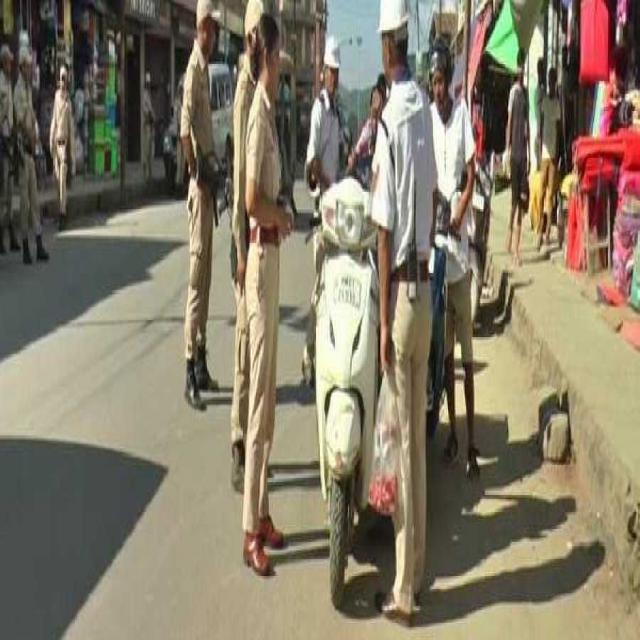No Parking: (318, 132, 385, 518)
